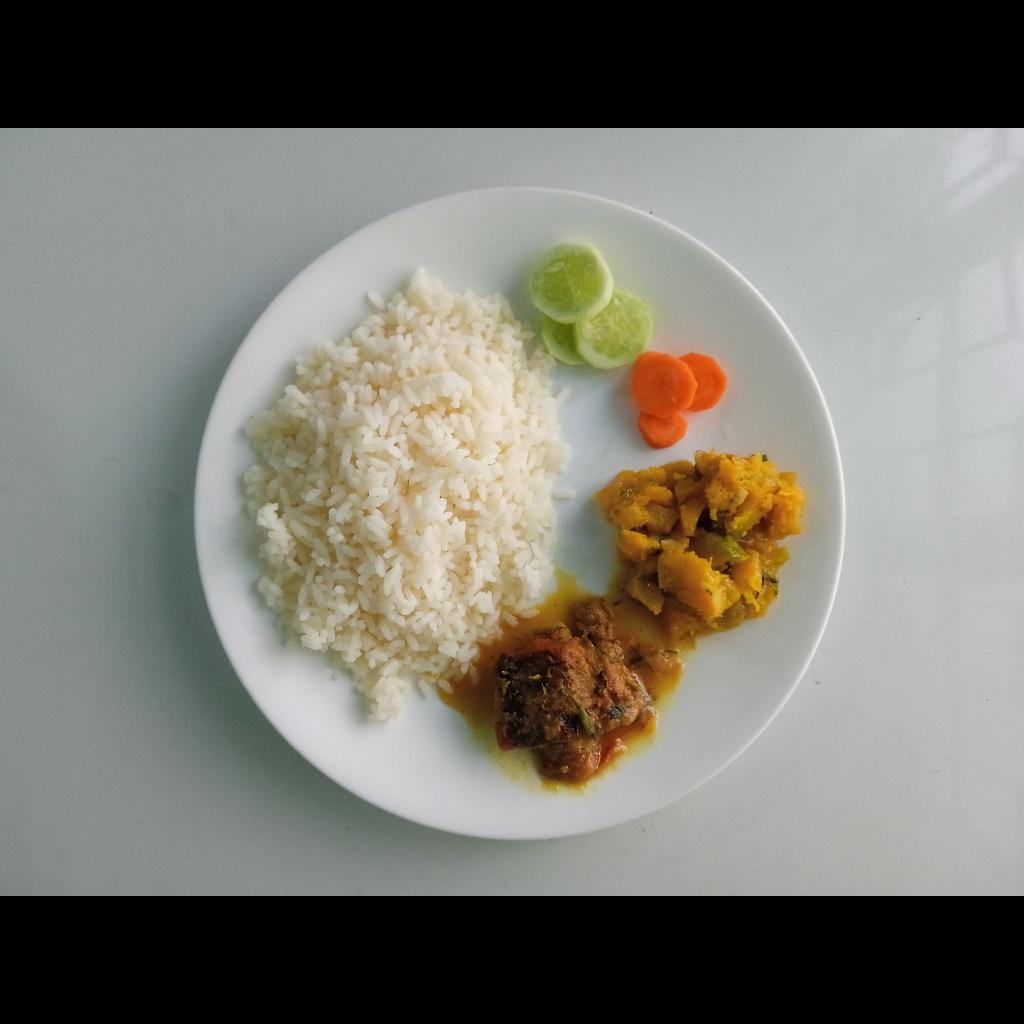carrot: (631, 352, 725, 451)
chicken: (491, 593, 645, 784)
cucumber: (533, 237, 653, 370)
kumra-vaji: (593, 451, 813, 630)
rice: (248, 265, 564, 720)
